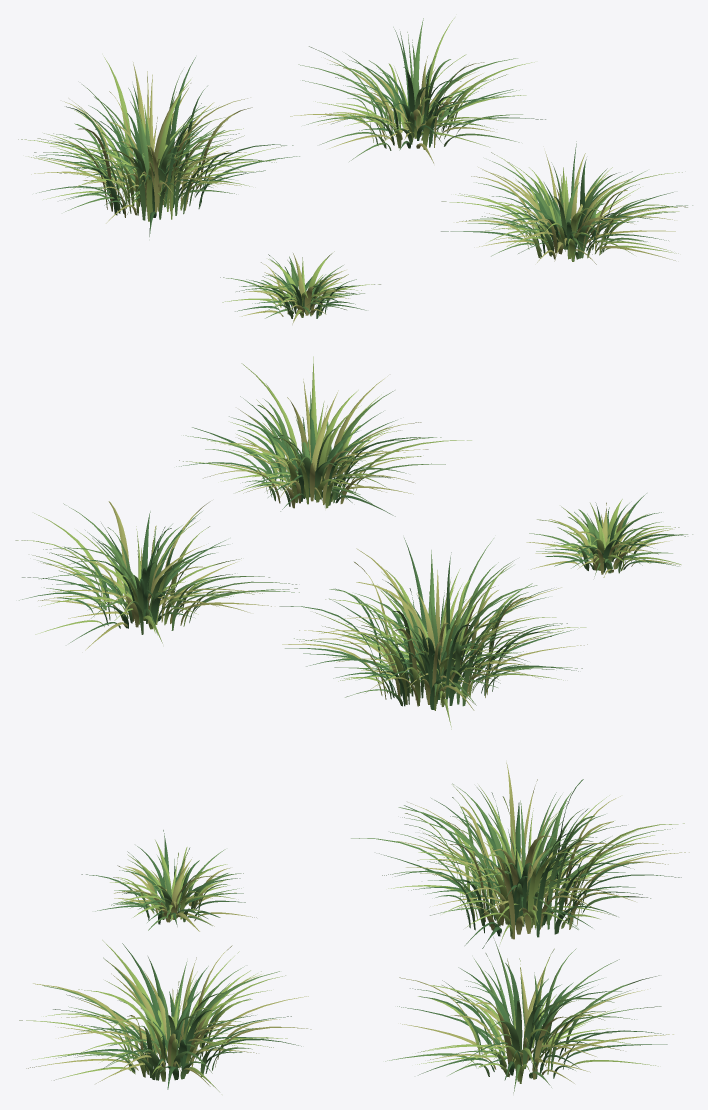
The model's file is f6_garden_grass_clumps_v5.glb.
The picture shows the model from 3 angles, top to bottom: view 1: azimuth 30°, elevation 25°; view 2: azimuth 150°, elevation 25°; view 3: azimuth 270°, elevation 25°; orthographic projection. The views are drawn at different scales.
Visible parts, largest first — view 1: grass_clump_03_color_0, grass_clump_03_color_1, grass_clump_03_color_3, grass_clump_03_color_2, grass_clump_04_color_0, grass_clump_02_color_1, grass_clump_02_color_3, grass_clump_02_color_0, grass_clump_04_color_1, grass_clump_04_color_2, grass_clump_02_color_2, grass_clump_04_color_3 (+4 smaller); view 2: grass_clump_03_color_0, grass_clump_03_color_2, grass_clump_03_color_3, grass_clump_03_color_1, grass_clump_02_color_1, grass_clump_04_color_0, grass_clump_02_color_3, grass_clump_04_color_2, grass_clump_02_color_0, grass_clump_02_color_2, grass_clump_04_color_3, grass_clump_04_color_1 (+4 smaller); view 3: grass_clump_03_color_2, grass_clump_03_color_0, grass_clump_03_color_3, grass_clump_03_color_1, grass_clump_02_color_1, grass_clump_04_color_0, grass_clump_02_color_3, grass_clump_04_color_2, grass_clump_02_color_2, grass_clump_02_color_0, grass_clump_04_color_3, grass_clump_04_color_1 (+4 smaller).
Boxes of the visible parts, bbox=[...] form: grass_clump_03_color_0: bbox=[34, 70, 276, 220]; grass_clump_03_color_1: bbox=[18, 57, 281, 221]; grass_clump_03_color_3: bbox=[31, 62, 252, 223]; grass_clump_03_color_2: bbox=[33, 57, 299, 236]; grass_clump_04_color_0: bbox=[298, 18, 522, 161]; grass_clump_02_color_1: bbox=[441, 152, 687, 261]; grass_clump_02_color_3: bbox=[456, 151, 685, 264]; grass_clump_02_color_0: bbox=[466, 160, 675, 260]; grass_clump_04_color_1: bbox=[315, 18, 534, 149]; grass_clump_04_color_2: bbox=[335, 27, 545, 150]; grass_clump_02_color_2: bbox=[441, 141, 692, 254]; grass_clump_04_color_3: bbox=[290, 56, 494, 163]; grass_clump_03_color_0: bbox=[294, 538, 582, 706]; grass_clump_03_color_2: bbox=[279, 538, 578, 709]; grass_clump_03_color_3: bbox=[282, 548, 587, 710]; grass_clump_03_color_1: bbox=[315, 563, 586, 729]; grass_clump_02_color_1: bbox=[179, 356, 471, 508]; grass_clump_04_color_0: bbox=[37, 503, 299, 634]; grass_clump_02_color_3: bbox=[203, 376, 428, 508]; grass_clump_04_color_2: bbox=[19, 511, 228, 643]; grass_clump_02_color_0: bbox=[183, 390, 445, 506]; grass_clump_02_color_2: bbox=[176, 392, 433, 516]; grass_clump_04_color_3: bbox=[38, 501, 271, 650]; grass_clump_04_color_1: bbox=[15, 513, 254, 643]; grass_clump_03_color_2: bbox=[379, 779, 681, 948]; grass_clump_03_color_0: bbox=[351, 783, 672, 936]; grass_clump_03_color_3: bbox=[397, 762, 689, 939]; grass_clump_03_color_1: bbox=[388, 784, 684, 943]; grass_clump_02_color_1: bbox=[19, 940, 287, 1091]; grass_clump_04_color_0: bbox=[385, 937, 661, 1093]; grass_clump_02_color_3: bbox=[26, 945, 311, 1086]; grass_clump_04_color_2: bbox=[397, 963, 667, 1080]; grass_clump_02_color_2: bbox=[53, 943, 301, 1089]; grass_clump_02_color_0: bbox=[42, 957, 279, 1080]; grass_clump_04_color_3: bbox=[399, 956, 673, 1083]; grass_clump_04_color_1: bbox=[417, 948, 658, 1083].
Bounding box in the file's own units: 2.66 × 0.4814 × 2.72.
